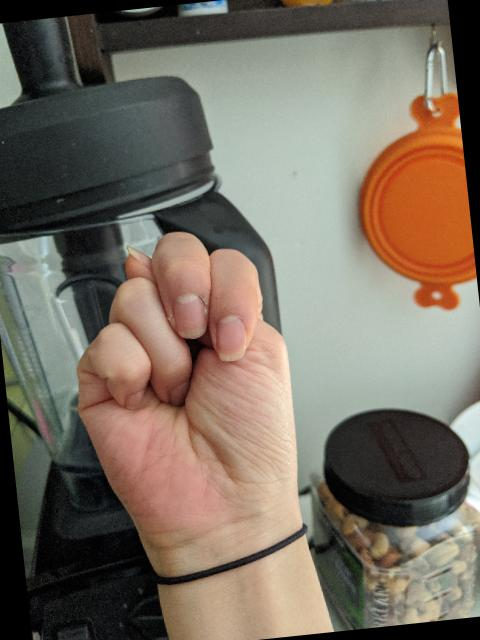N: (56, 218, 312, 566)
